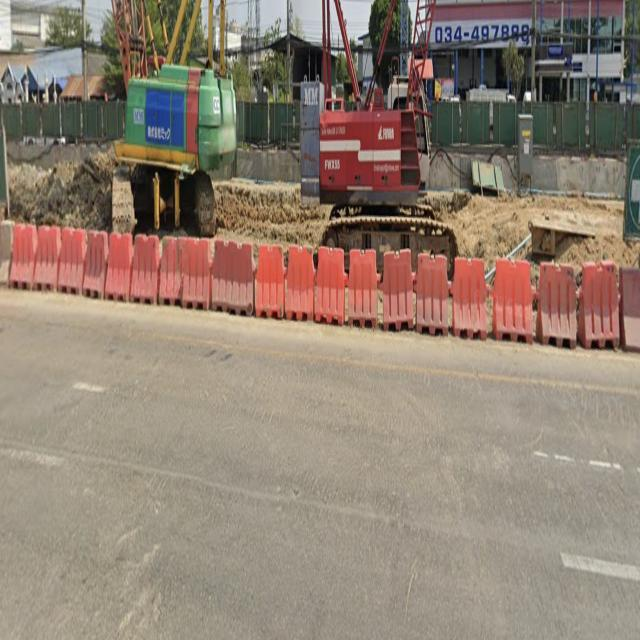fallen_object: (519, 250, 640, 367), (427, 250, 540, 355), (353, 237, 453, 341), (277, 233, 377, 330), (119, 225, 212, 313), (15, 216, 91, 309), (206, 239, 294, 319), (72, 219, 140, 307), (0, 196, 38, 299)
